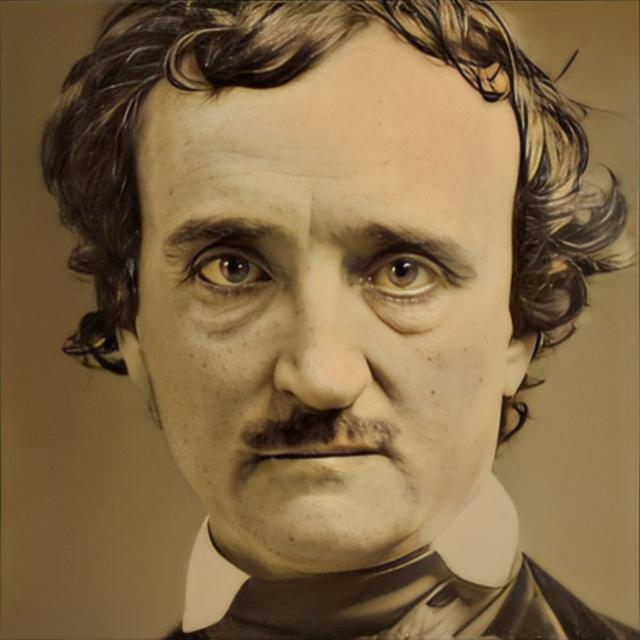sad: (138, 60, 508, 559)
